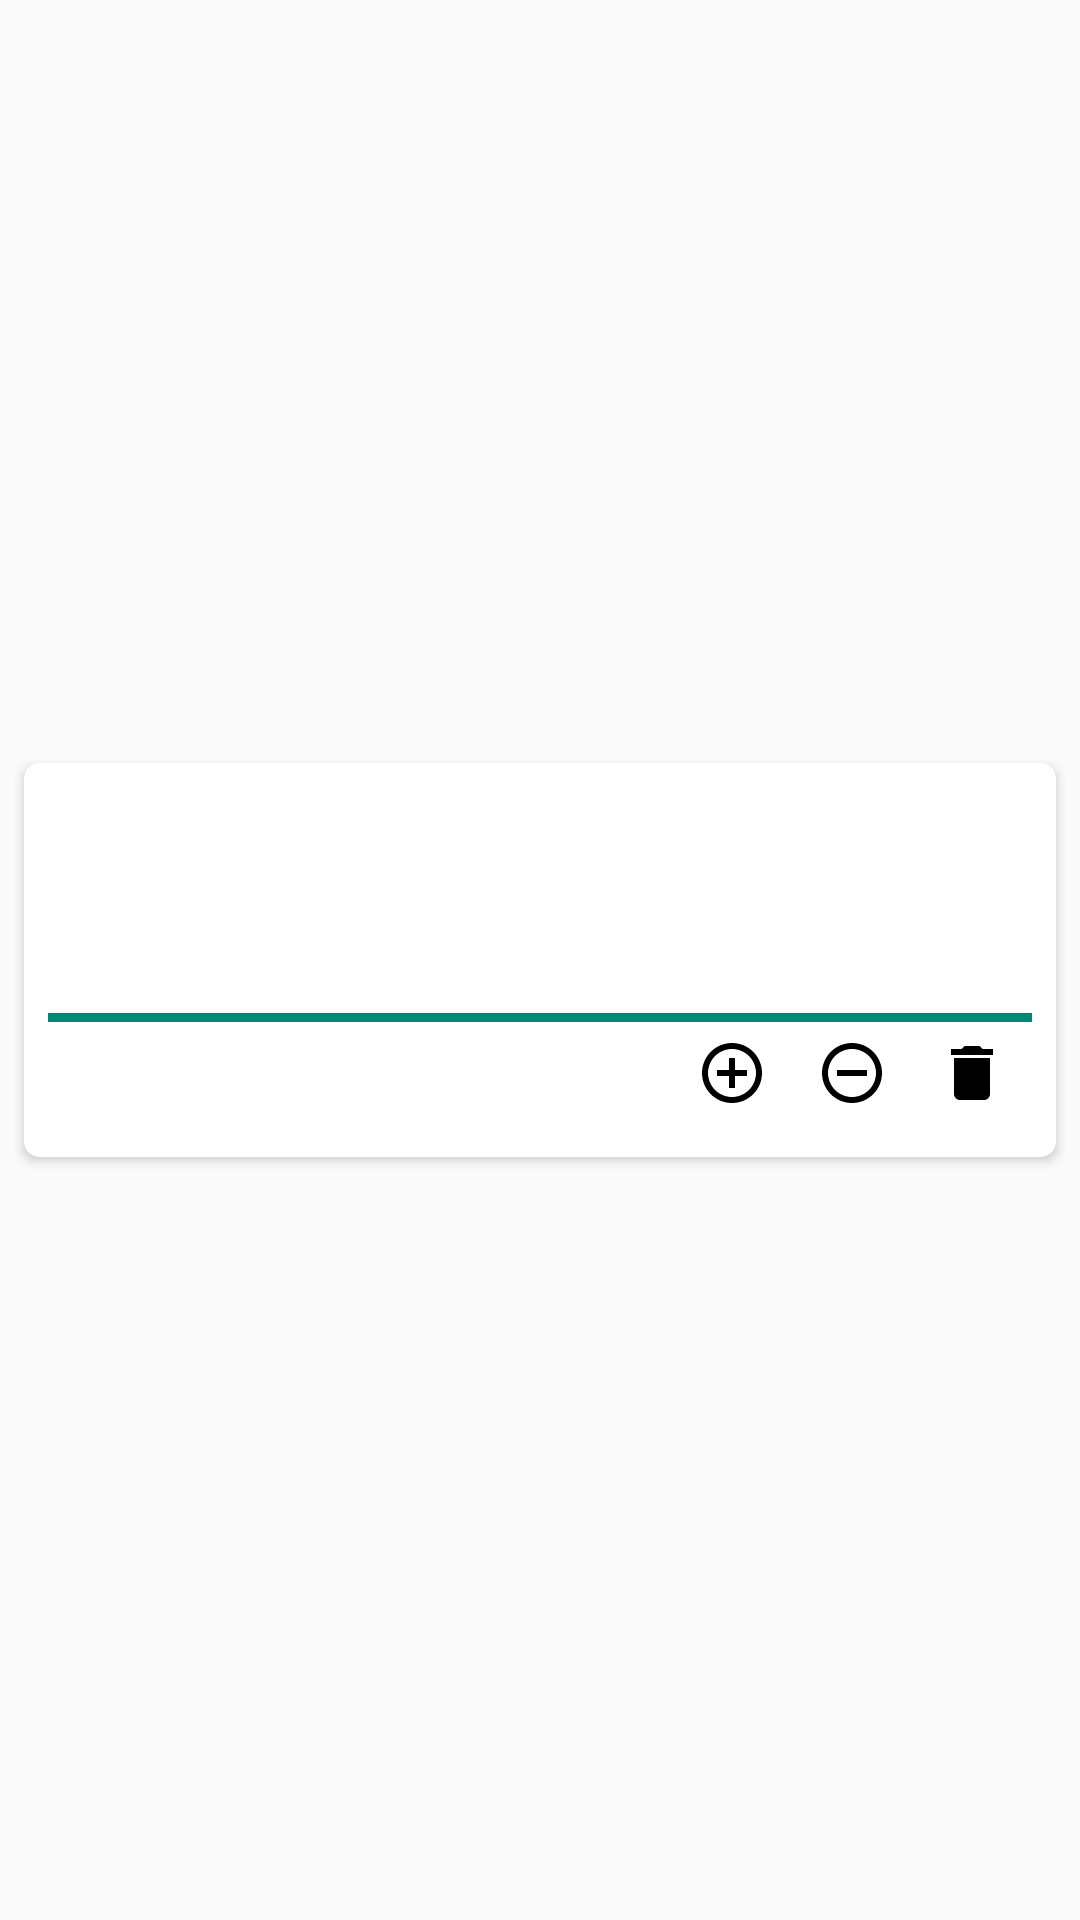

Icon bounding boxes for this 1080×1920 phone screenshot, format (x1, y1, x2, y2):
Apaga a Cidade: (951, 1046, 993, 1100)
Decrementa a quantidade da Cidade: (822, 1043, 882, 1103)
Incrementa a quantidade da Cidade: (702, 1043, 762, 1103)
